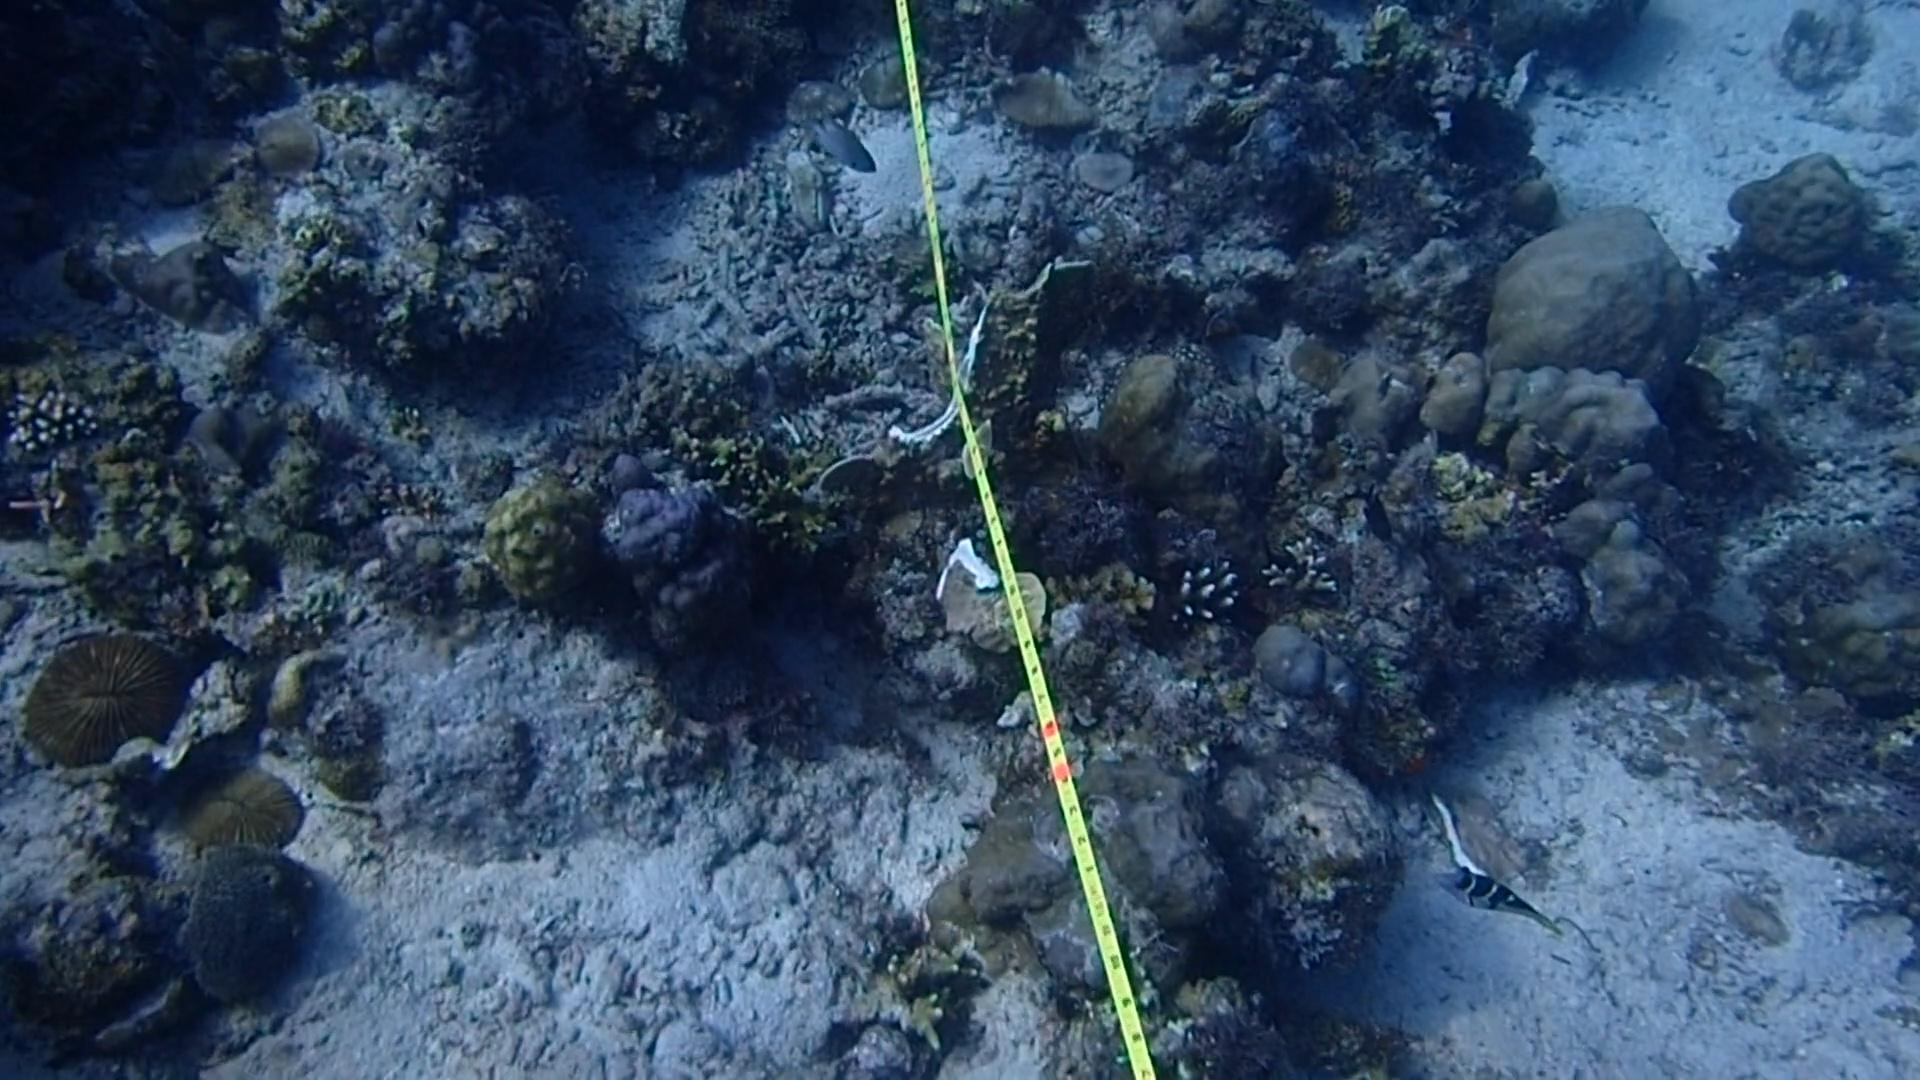Striped Fish: (1418, 848, 1557, 955)
